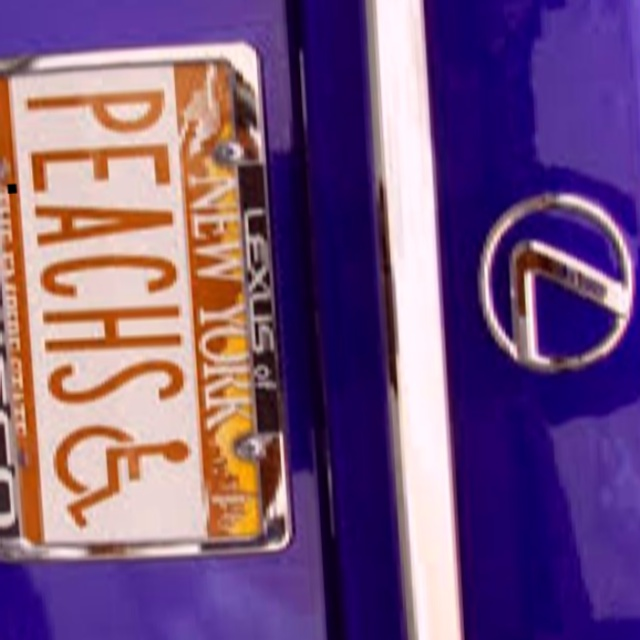ISA: (47, 421, 200, 536)
